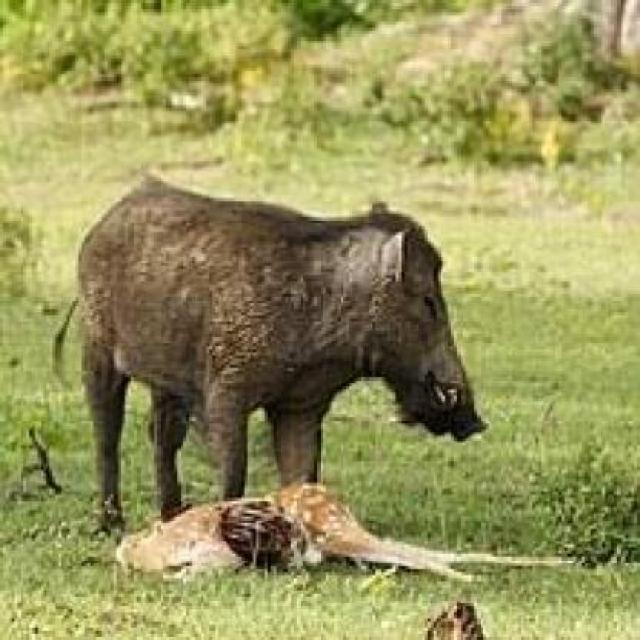wildboar: (44, 169, 490, 536)
